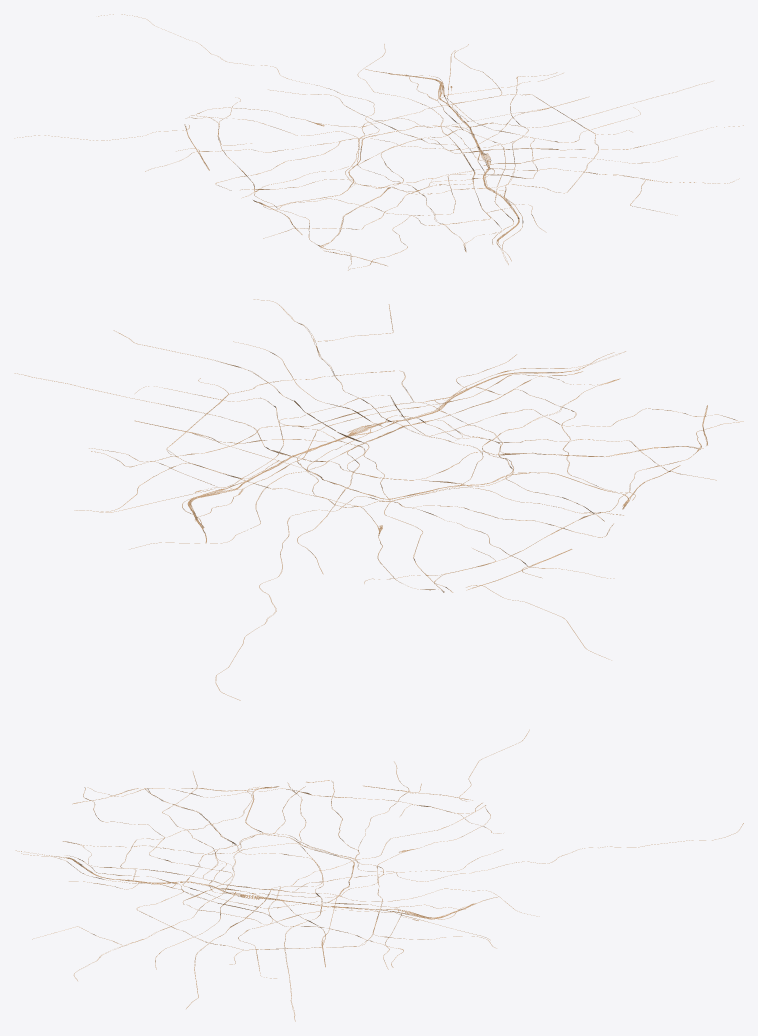
Rendered from rail.glb.
3 renders of one model, top to bottom at view 1: azimuth 30°, elevation 25°; view 2: azimuth 150°, elevation 25°; view 3: azimuth 270°, elevation 25°, orthographic. The views are drawn at different scales.
Visible parts, largest first — view 1: rail; view 2: rail; view 3: rail.
Boxes of the visible parts, x1=… form: rail: x1=14, y1=14, x2=743, y2=270; rail: x1=14, y1=299, x2=743, y2=700; rail: x1=15, y1=729, x2=743, y2=1021.
Bounding box in the file's own units: 15872 × 71.83 × 16812.
